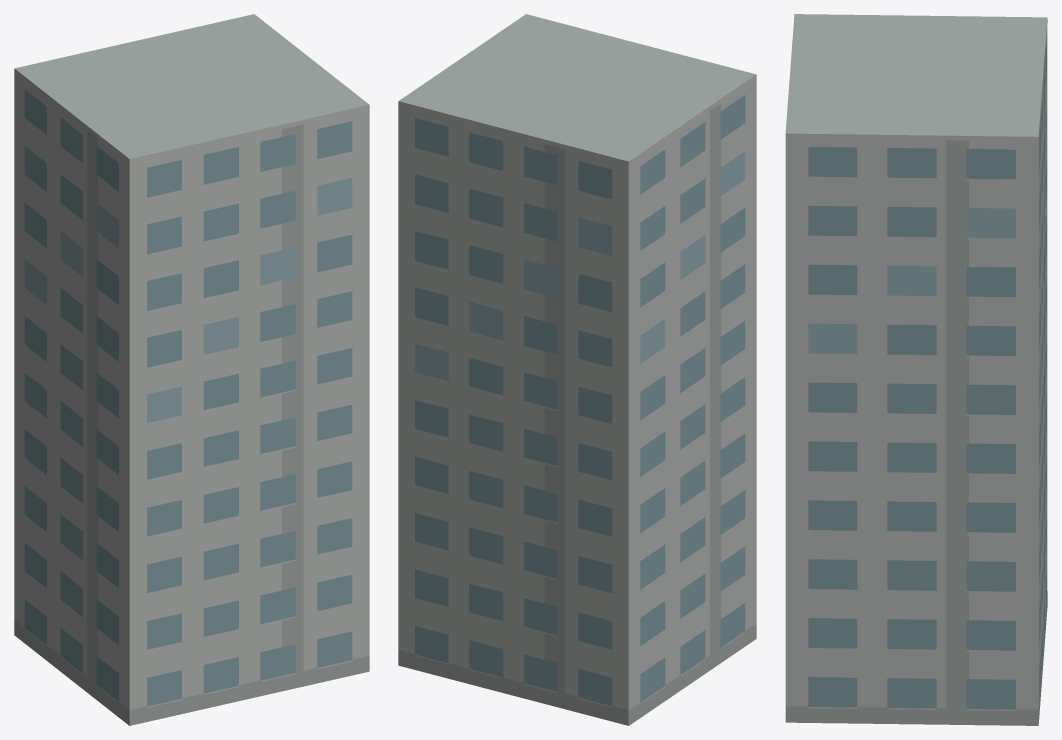
File: residential-b38ee92f-a020-4e06-a209-0bfbad036505.glb
3 renders of one model, left to right at view 1: azimuth 30°, elevation 25°; view 2: azimuth 150°, elevation 25°; view 3: azimuth 270°, elevation 25°, orthographic. The views are drawn at different scales.
Parts seen in each view (by area): view 1: residential-b38ee92f-a020-4e06-a209-0bfbad036505.tmp; view 2: residential-b38ee92f-a020-4e06-a209-0bfbad036505.tmp; view 3: residential-b38ee92f-a020-4e06-a209-0bfbad036505.tmp.
Part boxes in pixels (x1=…): residential-b38ee92f-a020-4e06-a209-0bfbad036505.tmp: x1=14, y1=14, x2=369, y2=725; residential-b38ee92f-a020-4e06-a209-0bfbad036505.tmp: x1=398, y1=14, x2=756, y2=725; residential-b38ee92f-a020-4e06-a209-0bfbad036505.tmp: x1=785, y1=14, x2=1047, y2=725.
Bounding box in the file's own units: 13.43 × 30 × 12.1.
